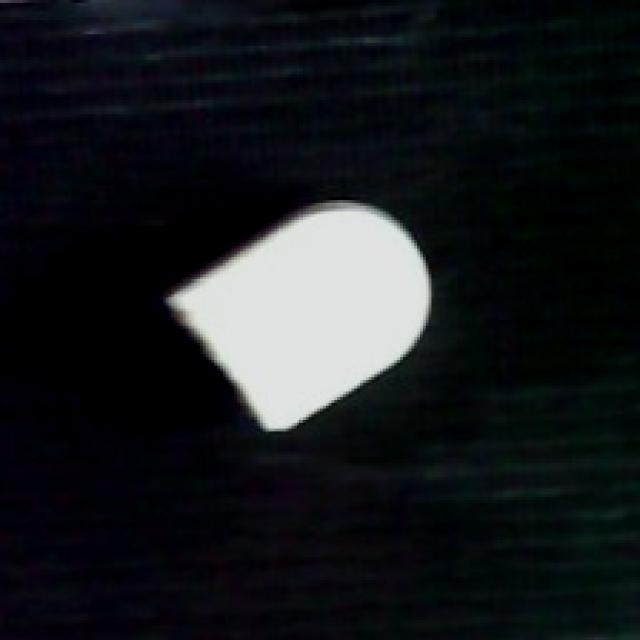defected: (152, 194, 437, 434)
